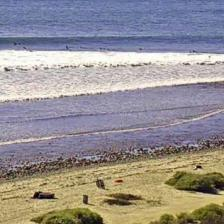surfer: (62, 47, 70, 50), (80, 46, 87, 49), (99, 47, 106, 50), (13, 42, 21, 44), (107, 49, 115, 51), (66, 46, 74, 48), (190, 50, 198, 52), (139, 48, 145, 50), (22, 47, 26, 49), (30, 50, 33, 52)
